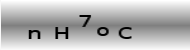7: (77, 14, 92, 28)
C: (117, 26, 133, 40)
H: (53, 25, 69, 40)
n: (27, 29, 41, 40)
o: (95, 26, 109, 37)
